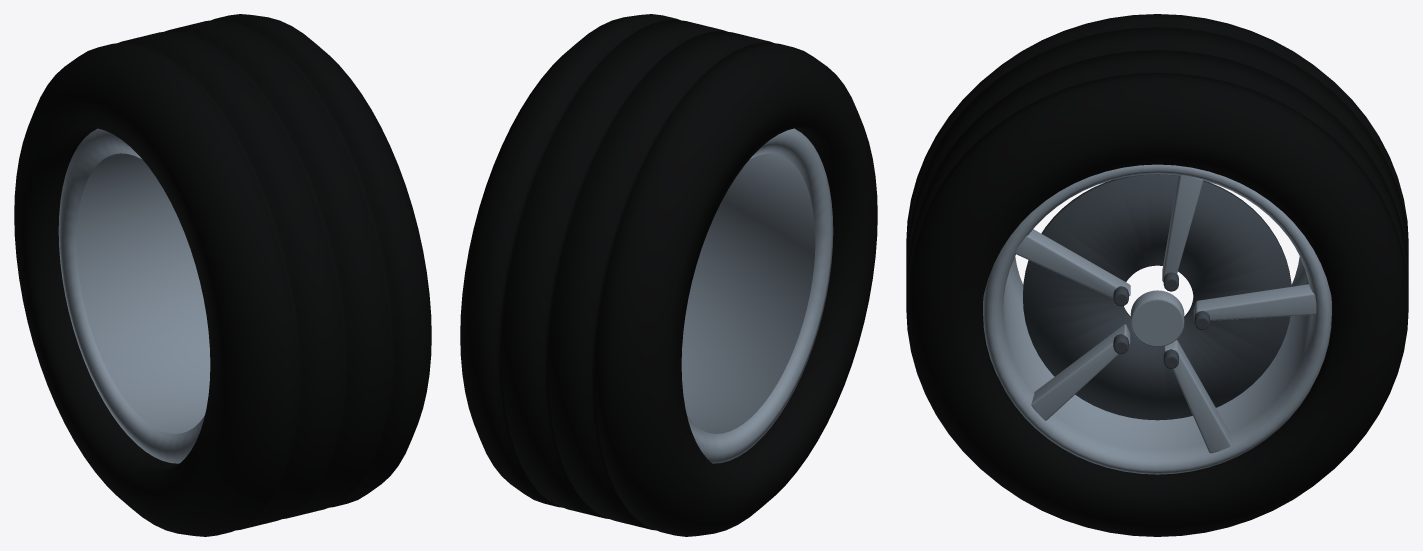
Rendered from Cedar_Wheel.obj.
3 renders of one model, left to right at view 1: azimuth 30°, elevation 25°; view 2: azimuth 150°, elevation 25°; view 3: azimuth 270°, elevation 25°, orthographic.
Parts seen in each view (by area): view 1: Cedar_Wheel_Tire, Cedar_Wheel_Rim; view 2: Cedar_Wheel_Tire, Cedar_Wheel_Rim; view 3: Cedar_Wheel_Tire, Cedar_Wheel_Rim, Cedar_Wheel_BrakeDisc.
Part boxes in pixels (x1,y1,x2,y2): Cedar_Wheel_Tire: (14,14,431,536); Cedar_Wheel_Rim: (58,128,210,463); Cedar_Wheel_Tire: (460,14,877,536); Cedar_Wheel_Rim: (681,128,833,463); Cedar_Wheel_Tire: (906,14,1408,536); Cedar_Wheel_Rim: (983,164,1331,474); Cedar_Wheel_BrakeDisc: (1023,174,1291,420).
Size of the model in its own units: 1.3 by 2.8 by 2.8.
